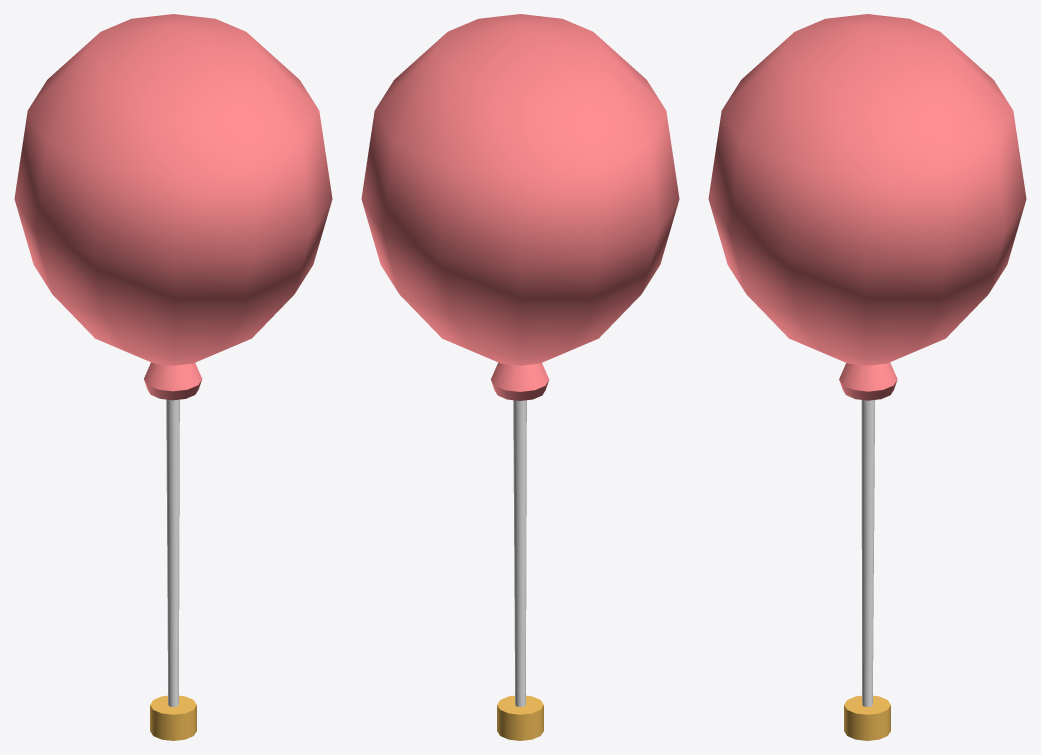
Rendered from Pungsun3-3.fbx.
The picture shows the model from 3 angles, left to right: view 1: azimuth 30°, elevation 25°; view 2: azimuth 150°, elevation 25°; view 3: azimuth 270°, elevation 25°; orthographic projection.
Parts seen in each view (by area): view 1: Pungsun3-3; view 2: Pungsun3-3; view 3: Pungsun3-3.
Boxes of the visible parts, x1=… form: Pungsun3-3: x1=14, y1=14, x2=332, y2=740; Pungsun3-3: x1=361, y1=14, x2=679, y2=740; Pungsun3-3: x1=708, y1=14, x2=1026, y2=740.
Bounding box in the file's own units: 0.1381 × 0.3374 × 0.1381.
